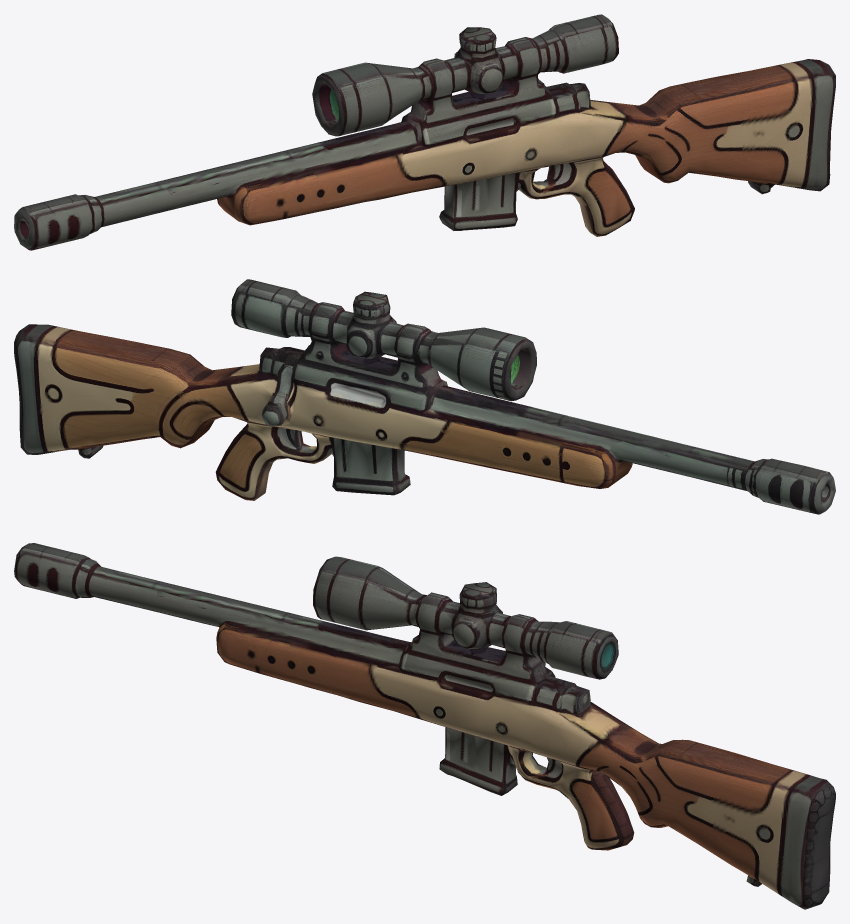
The model's file is Sniper Rifle.fbx.
3 views of the same model, one above another, from view 1: azimuth 30°, elevation 25°; view 2: azimuth 150°, elevation 25°; view 3: azimuth 330°, elevation 25° (orthographic).
Parts seen in each view (by area): view 1: Mesh_0; view 2: Mesh_0; view 3: Mesh_0.
Boxes of the visible parts, left/top/right/bottom form: Mesh_0: left=14, top=14, right=835, bottom=250; Mesh_0: left=14, top=279, right=835, bottom=514; Mesh_0: left=14, top=543, right=835, bottom=909.
Size of the model in its own units: 191 by 52.97 by 17.5.
1 material, 1 textured.
